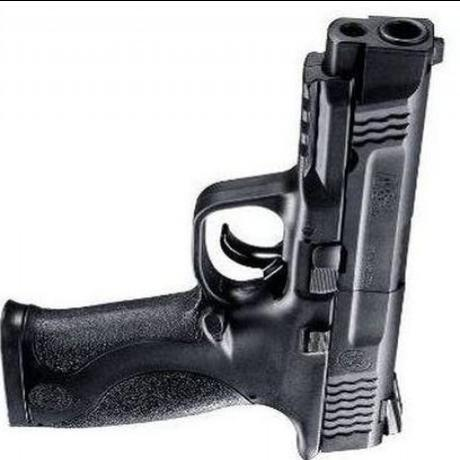weapon: (6, 3, 460, 459)
